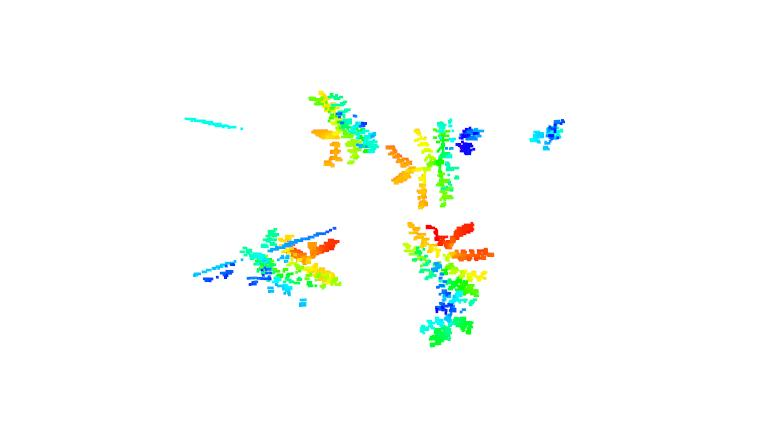chickpea: (398, 220, 495, 348), (385, 115, 488, 213), (237, 226, 345, 302), (303, 83, 380, 169), (527, 115, 568, 154)
